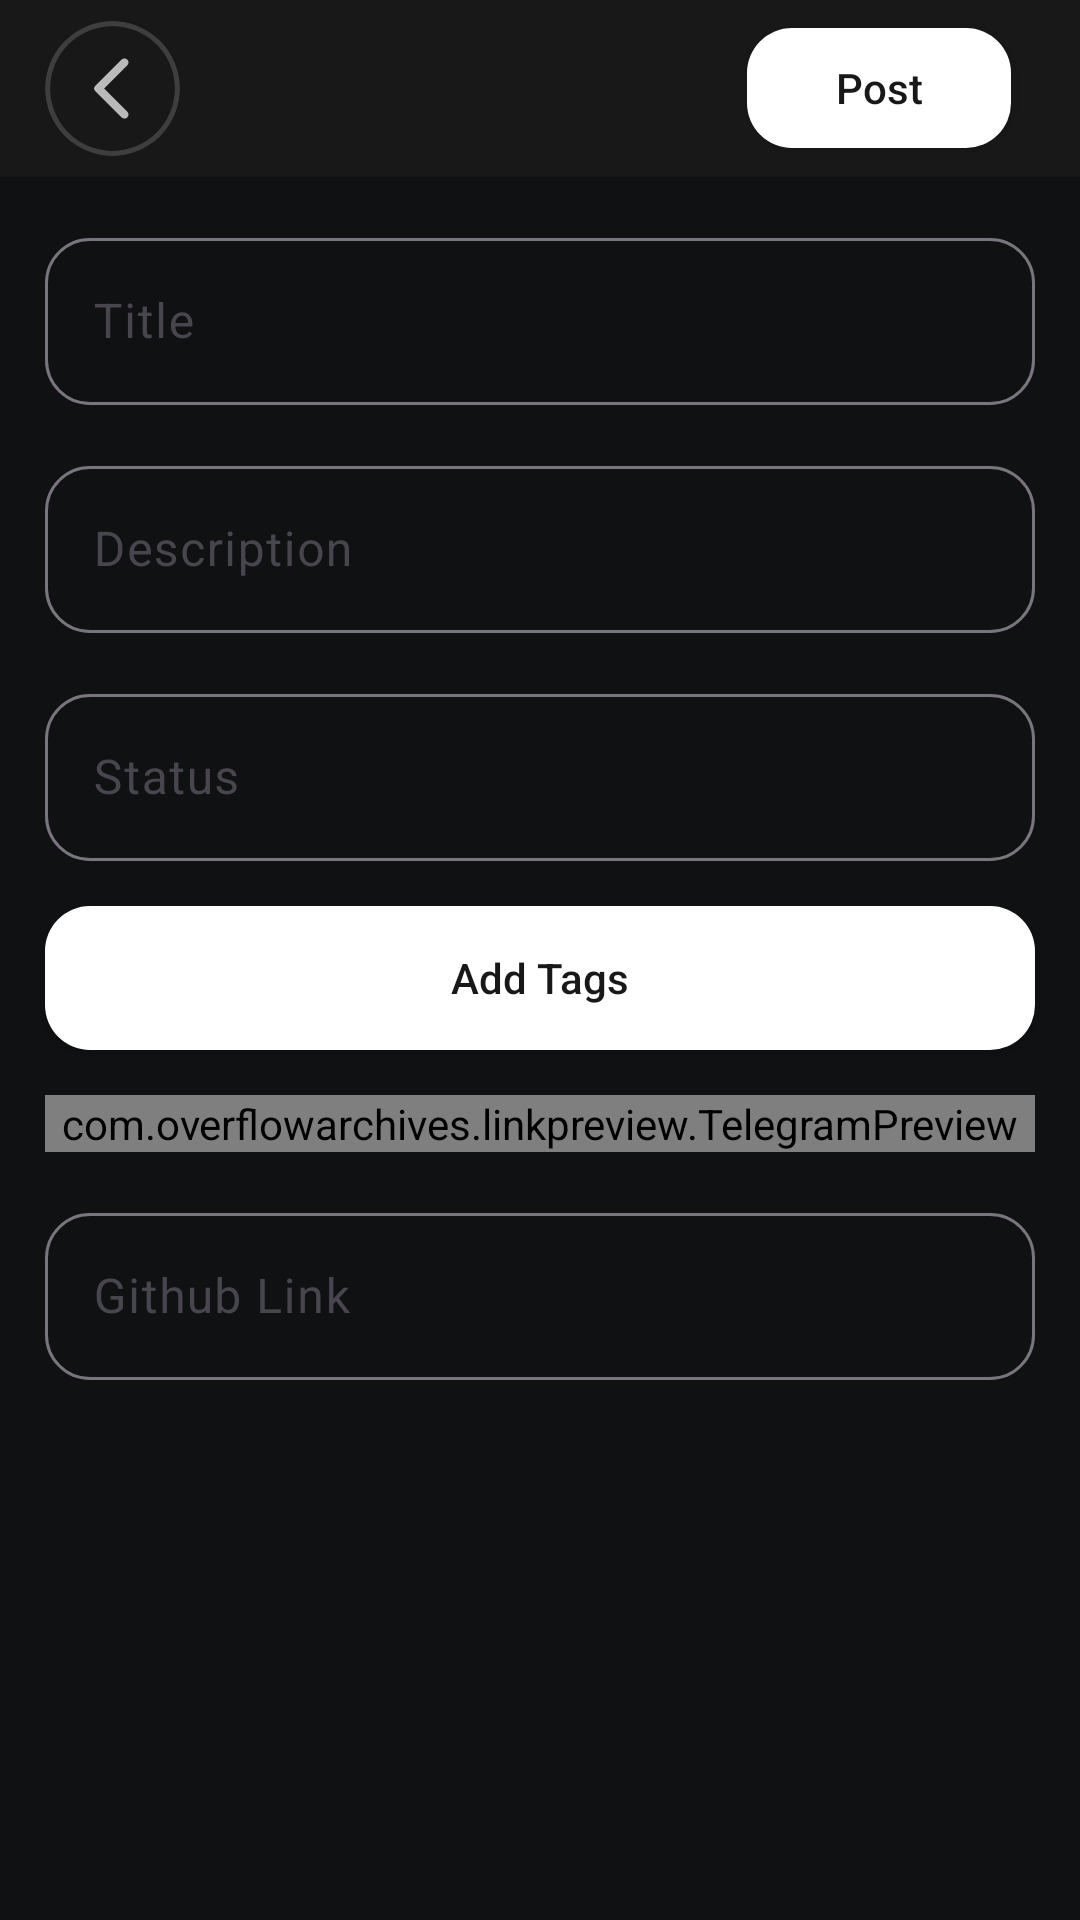

Icon bounding boxes for this 1080px×1920px phone screenshot, format region(x1, y1, x2, y2):
back: region(94, 58, 129, 119)
